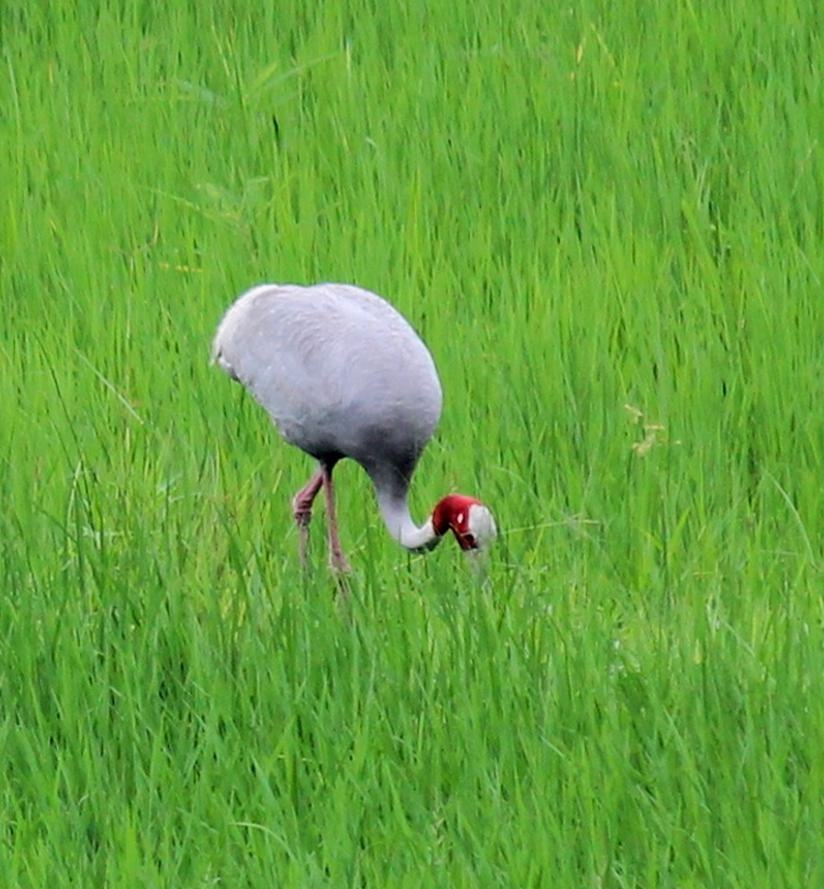crane: (221, 264, 500, 672)
